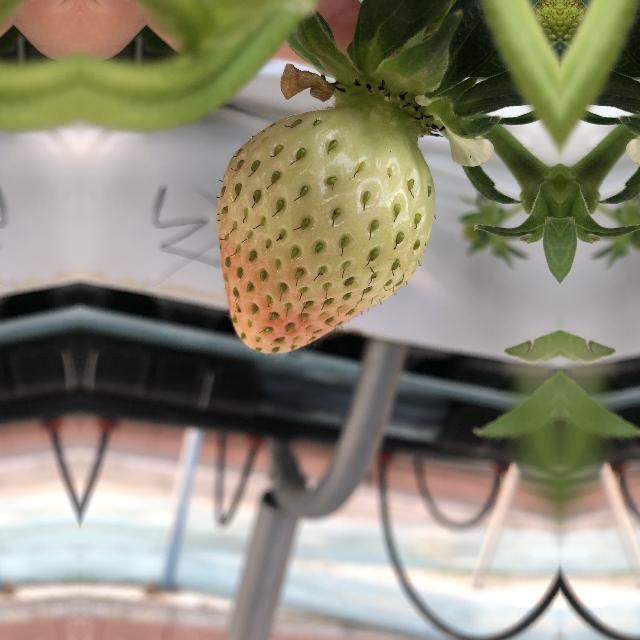Health_50: (203, 90, 439, 366)
